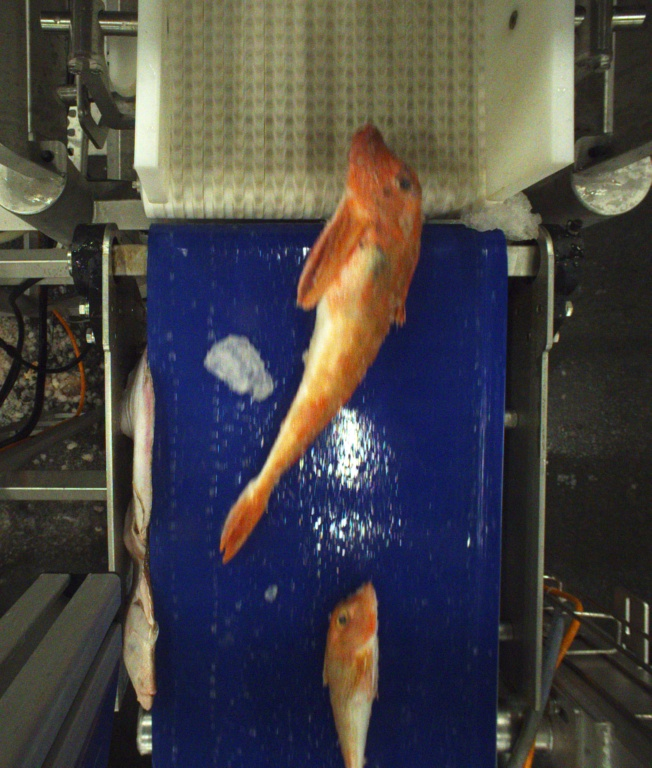GUU: (219, 125, 425, 561)
